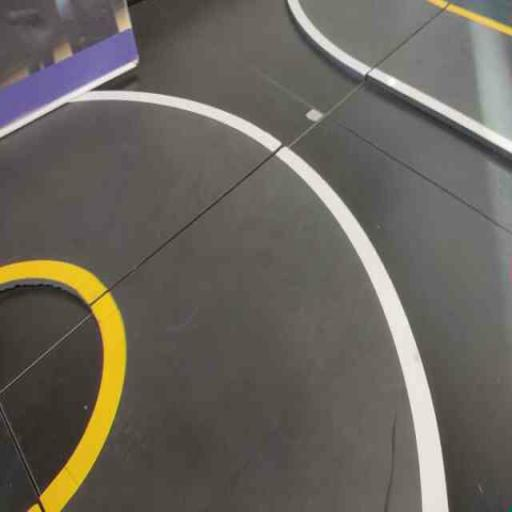left: (1, 139, 461, 511)
